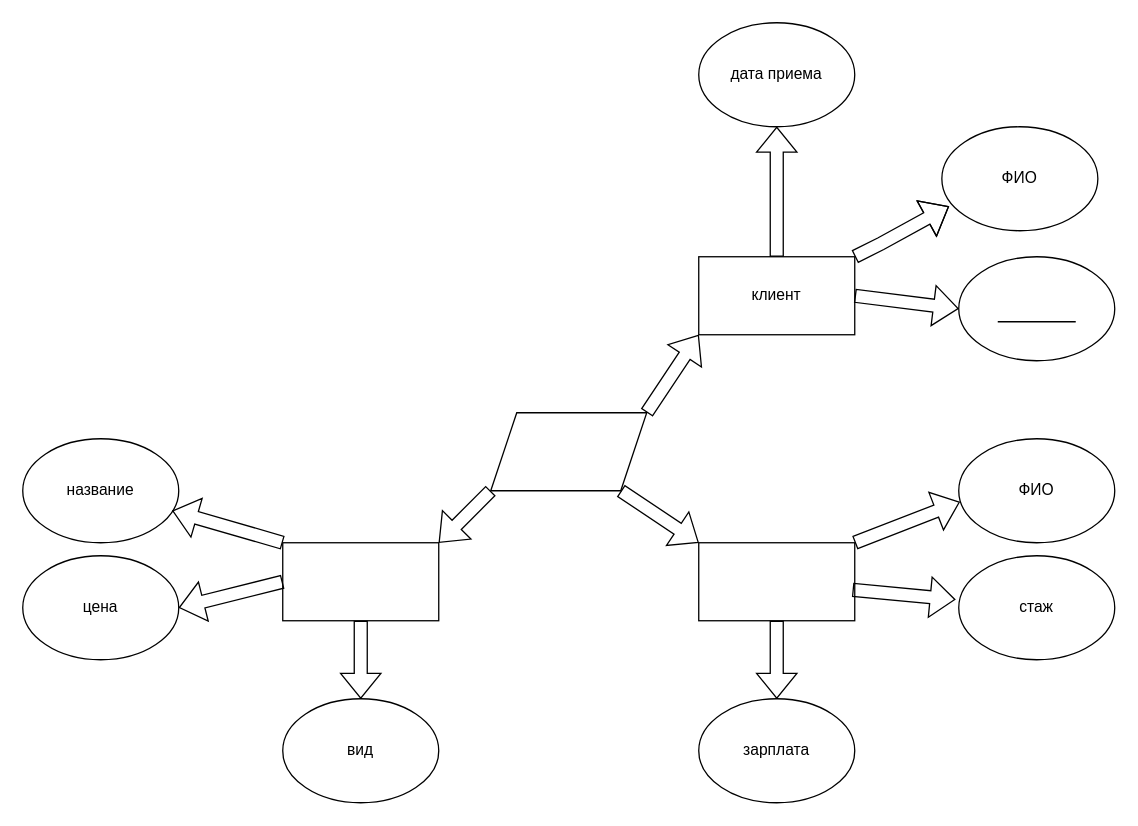
Some shapes in this 1138 by 826 pixel diagram are drawn without their labels. Each missing label, with the box of its shape:
номер: (957, 255, 1115, 361)
пфрикмахерская: (489, 411, 647, 491)
работник: (697, 541, 855, 621)
услуги: (281, 541, 439, 621)
